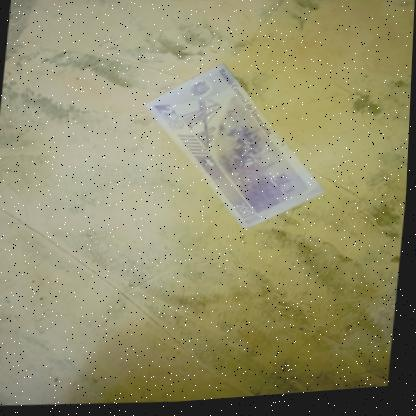vef_back: (133, 53, 339, 245)
